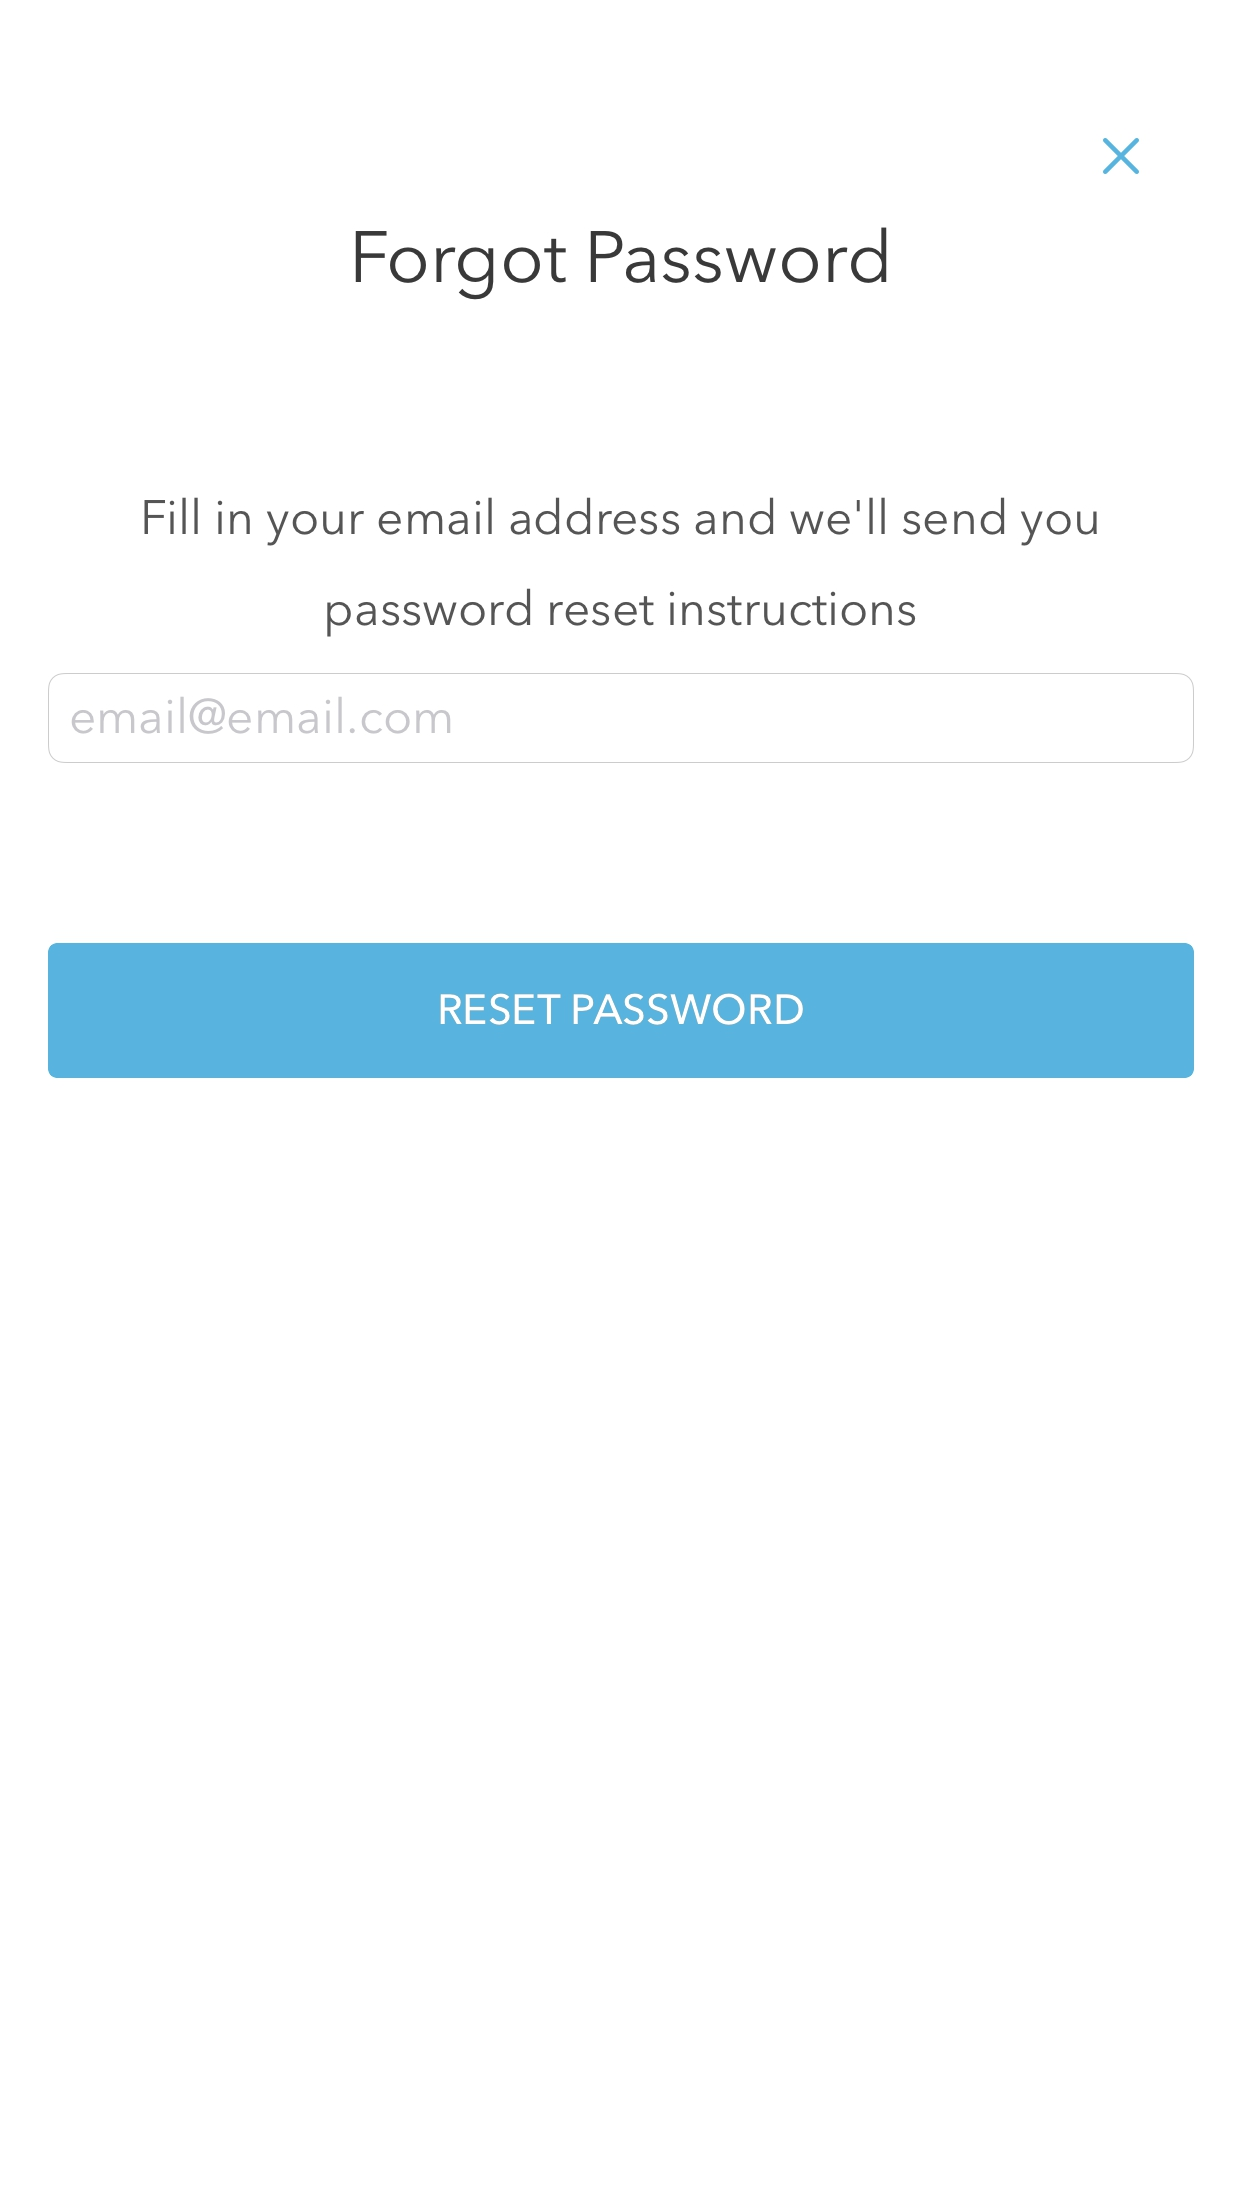EditText: (49, 673, 1193, 764)
Icon: (1102, 140, 1140, 174)
Text: (144, 497, 1096, 638), (356, 227, 889, 300), (71, 698, 450, 735)
TextButton: (49, 943, 1193, 1080)
